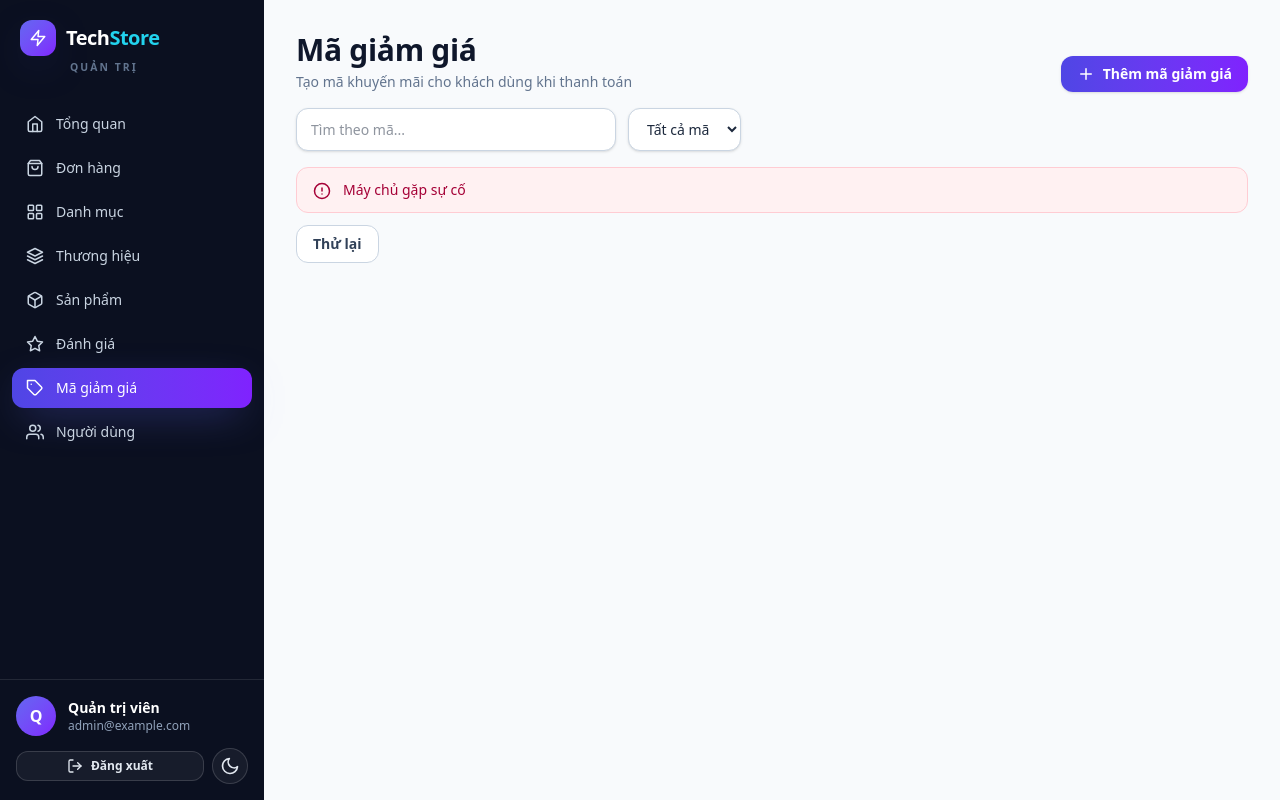
Test: Trang mã giảm giá (US-24) › lỗi tải danh sách có nút Thử lại
Expected: the text "Máy chủ gặp sự cố" is shown, [343,180,466,200]
Click the button "Thử lại": [337, 244] box [296,225,379,263]
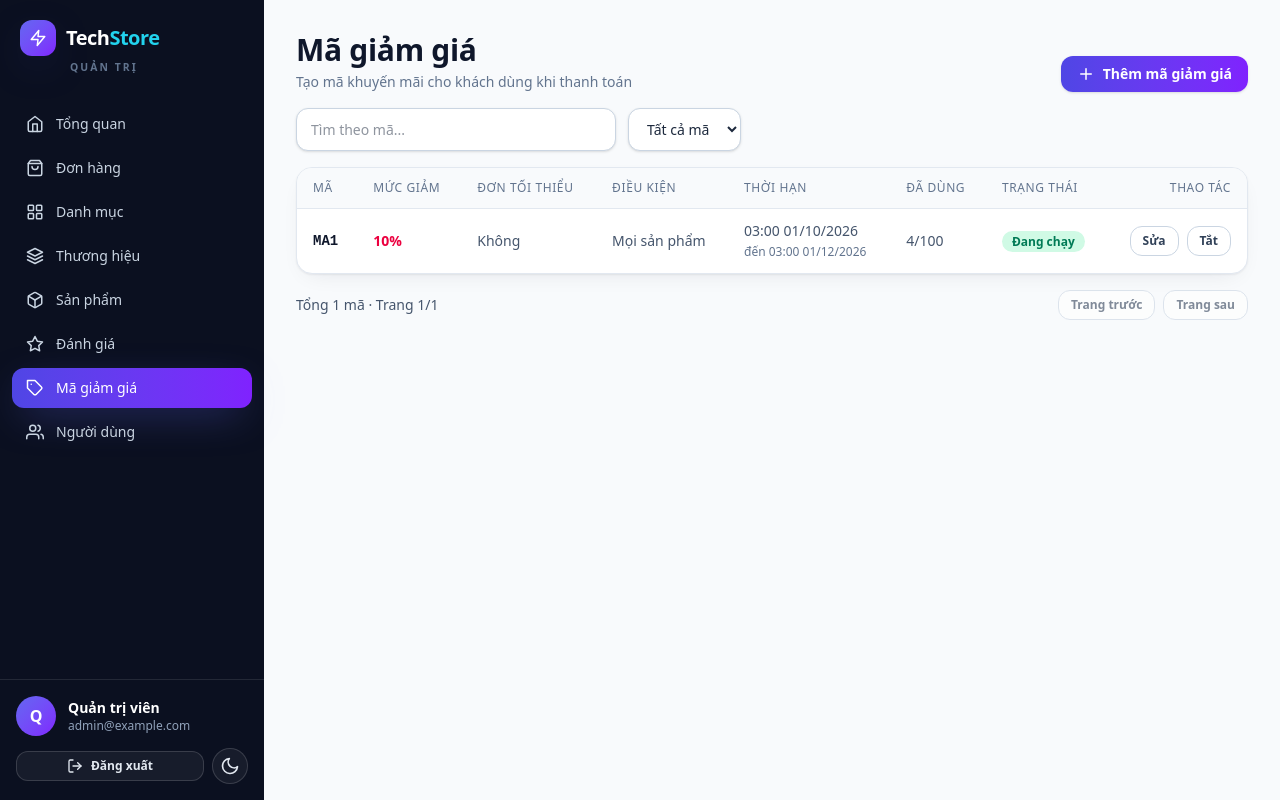
Result: the text "MA1" is shown at [313,233,338,249]
